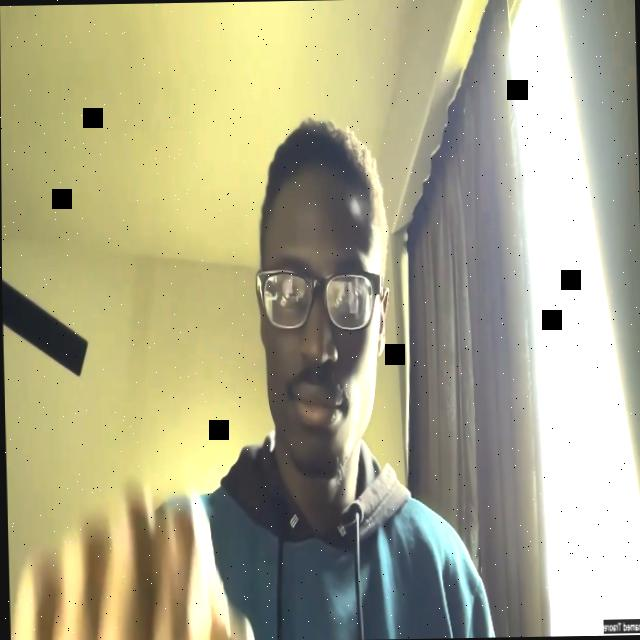Rock: (6, 481, 256, 640)
